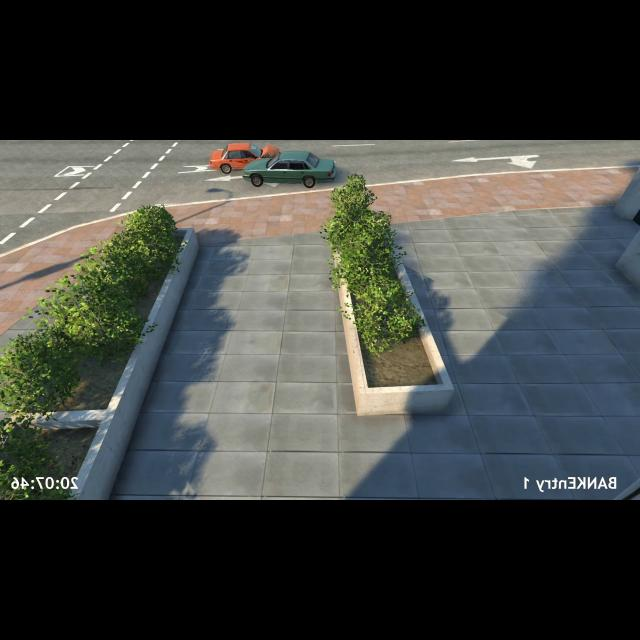accident: (203, 140, 339, 193)
